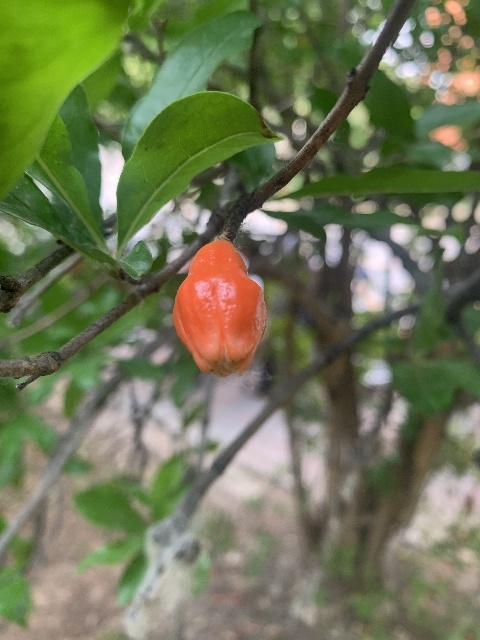bud: (173, 239, 266, 378)
